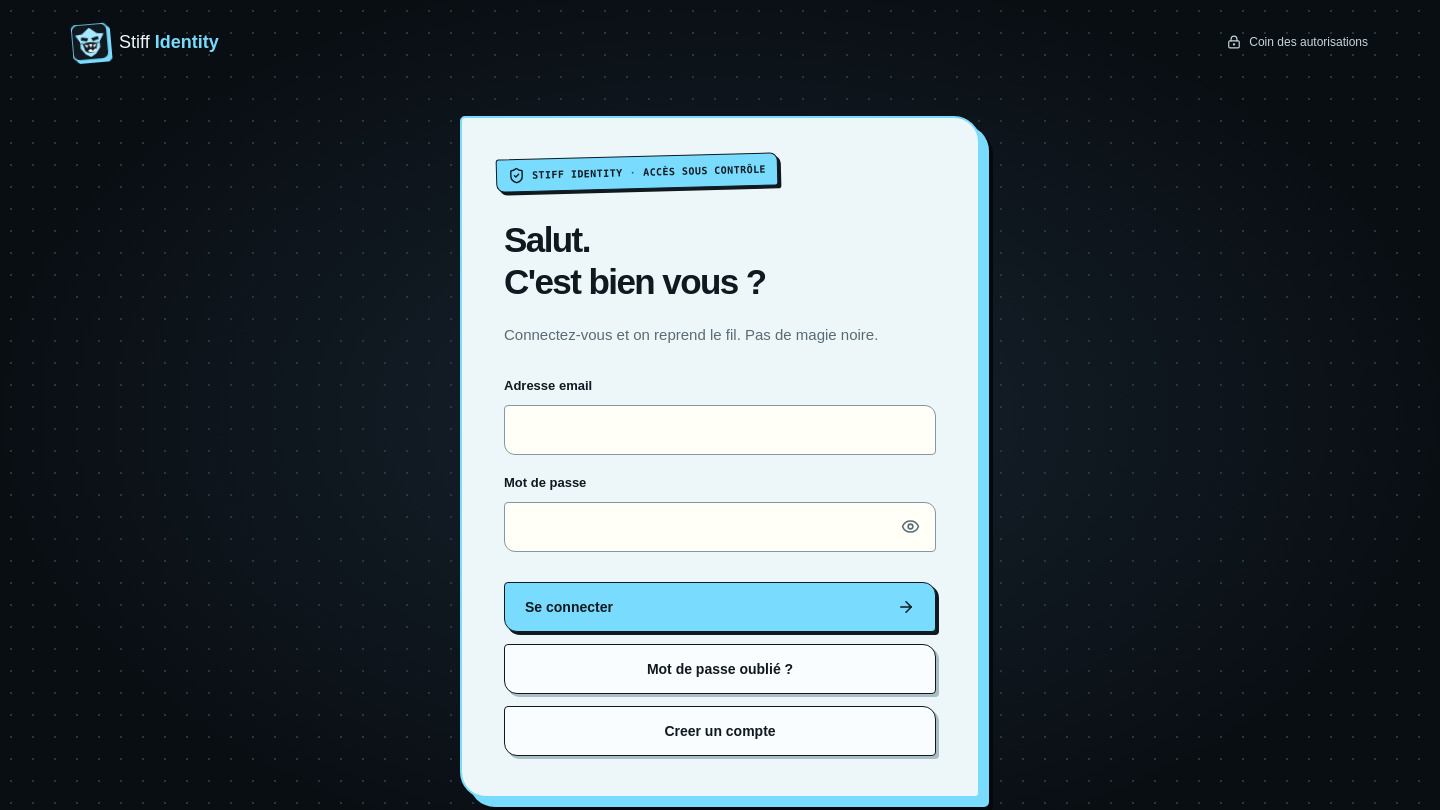
Test: interface › n expose pas les erreurs techniques de Supabase lors de l inscription
The width and height of the screenshot is (1440, 810).
Click the button with class "auth-switch" at [720, 731], box [504,706,936,756]
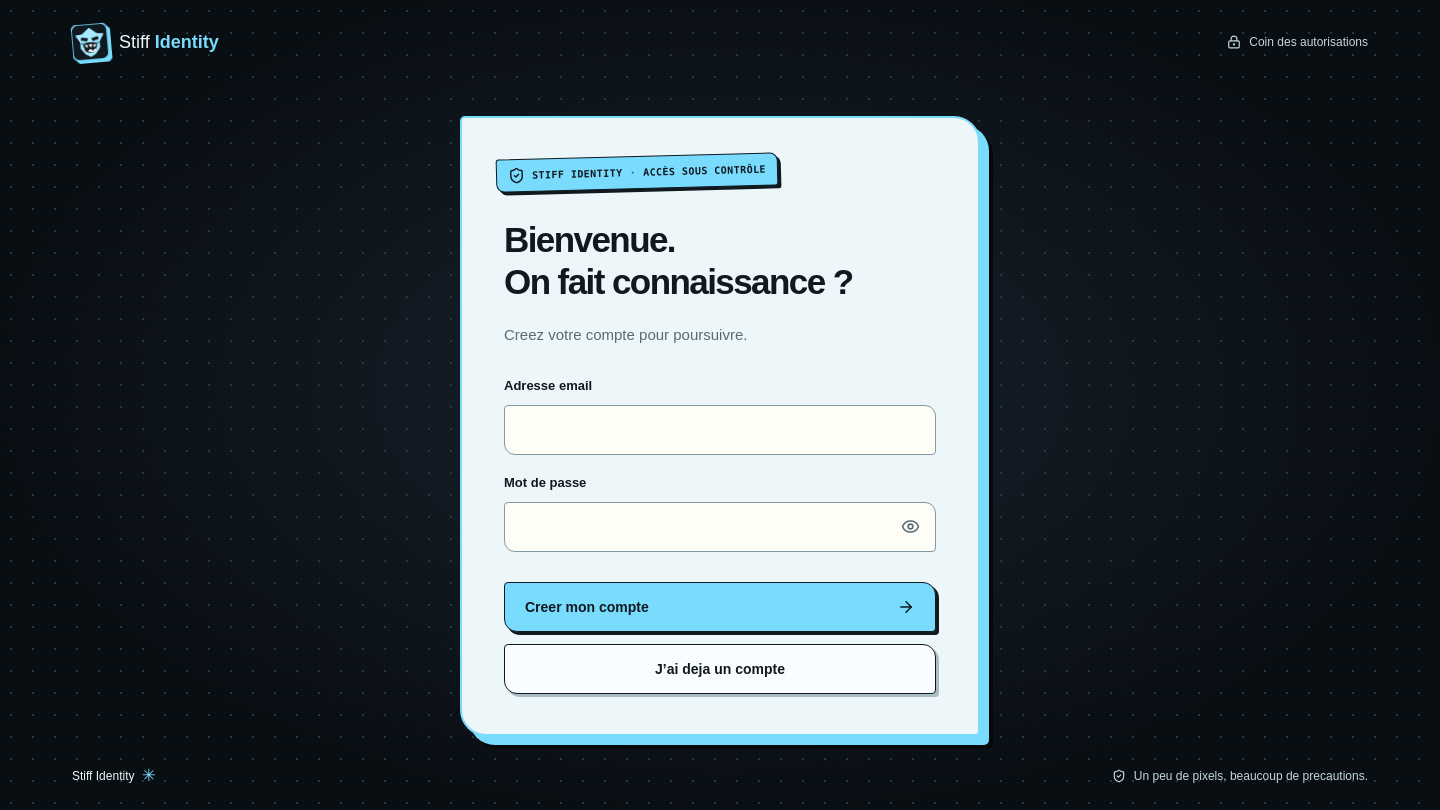
Type "user@example.com" into the field with id "email" at [720, 430], box [504,405,936,455]
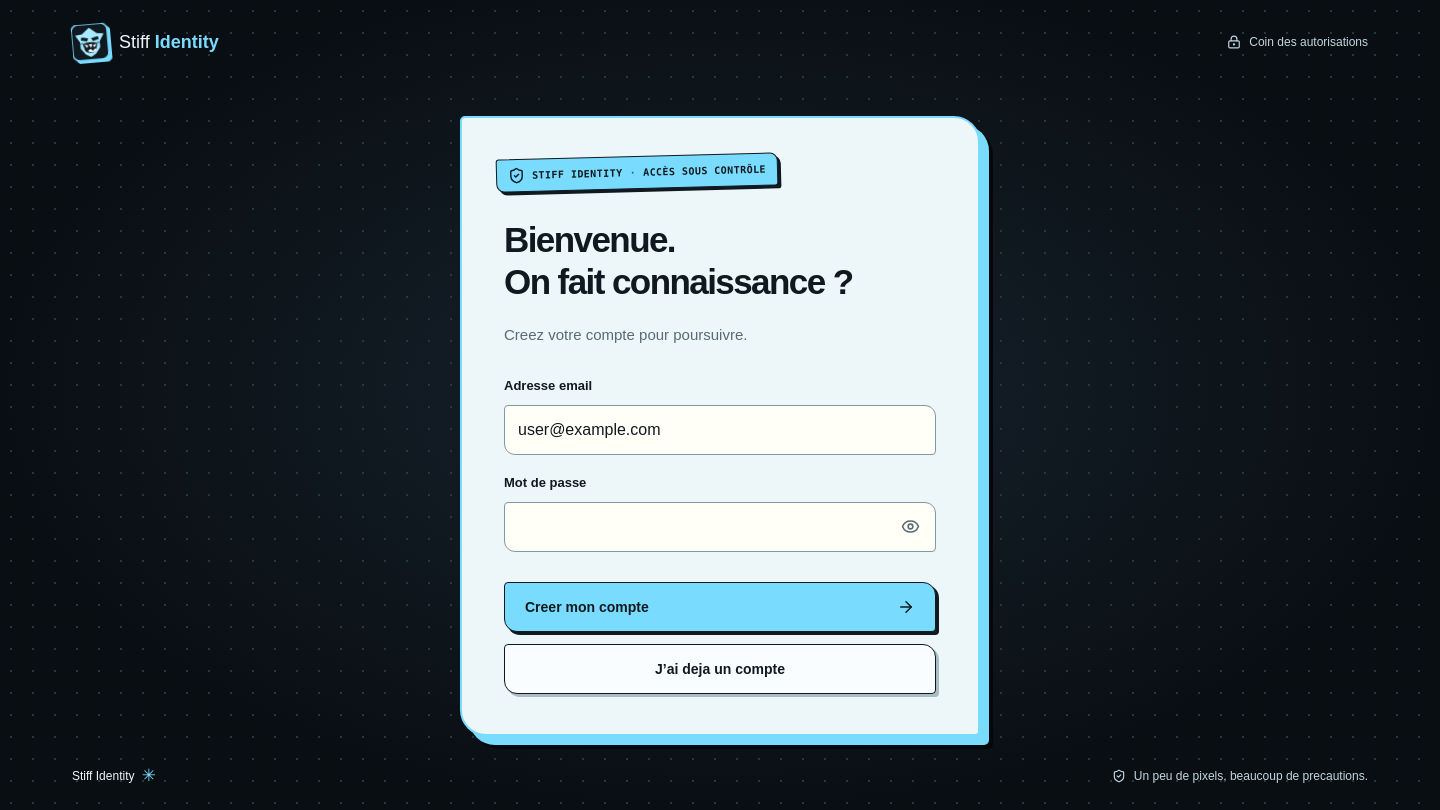
Type "secret-test" into the password field labelled "Mot de passe" at [720, 527], box [504,502,936,552]
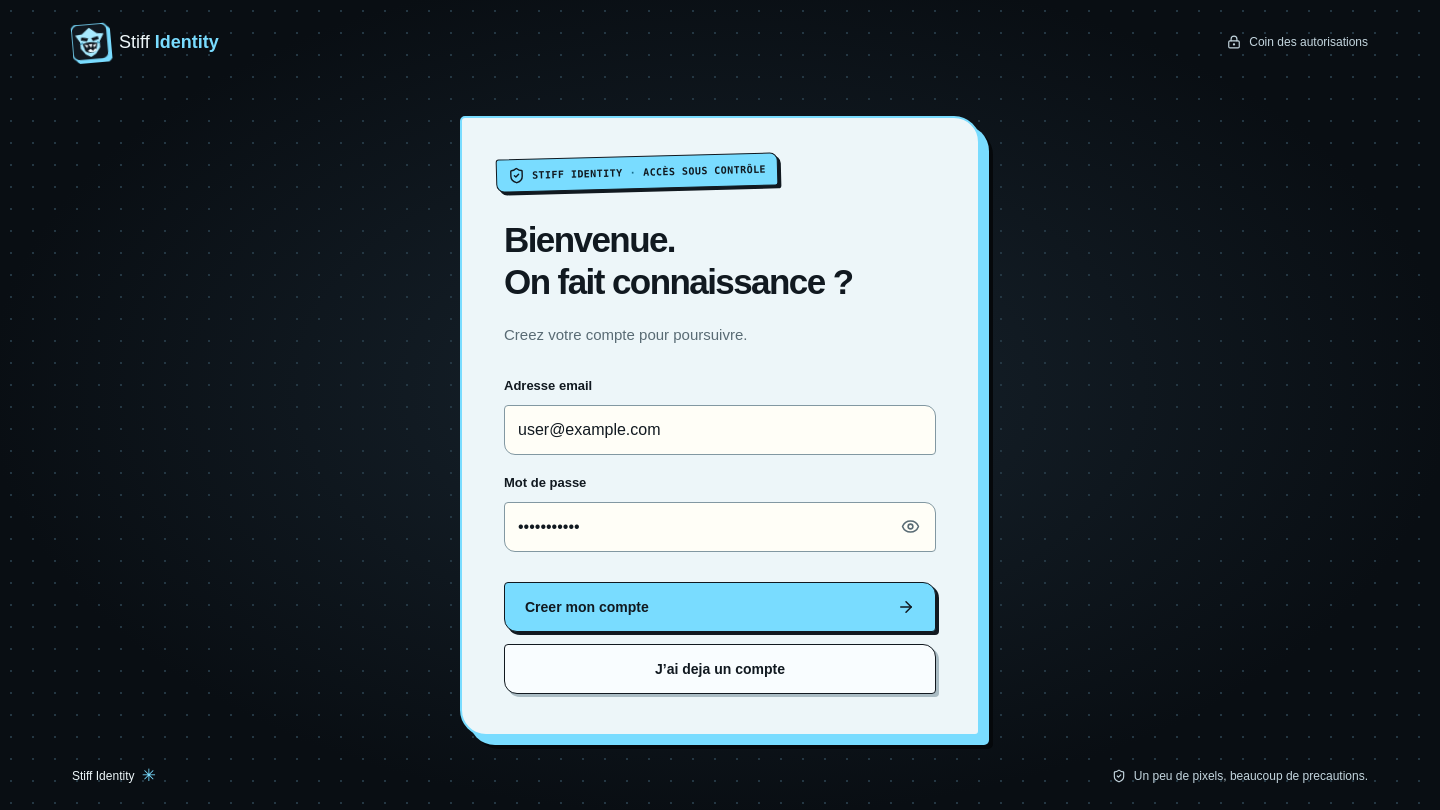
Submit the form, box [504,378,936,694]
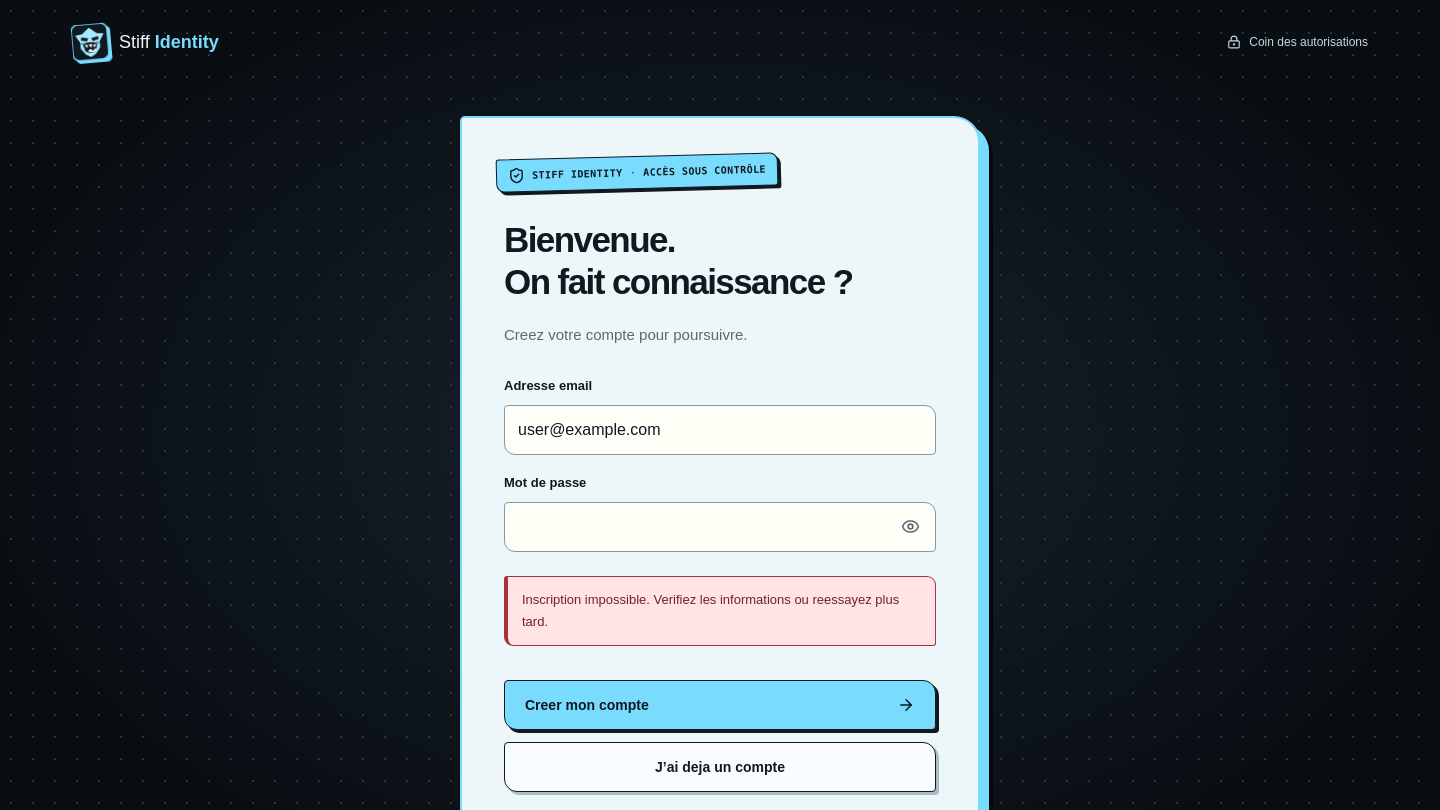
Result: the message "Inscription impossible. Verifiez les informations ou reessayez plus tard." is shown at [504,576,936,646]
